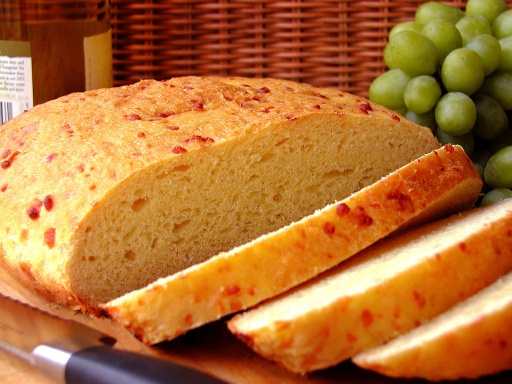background: (0, 0, 410, 230)
